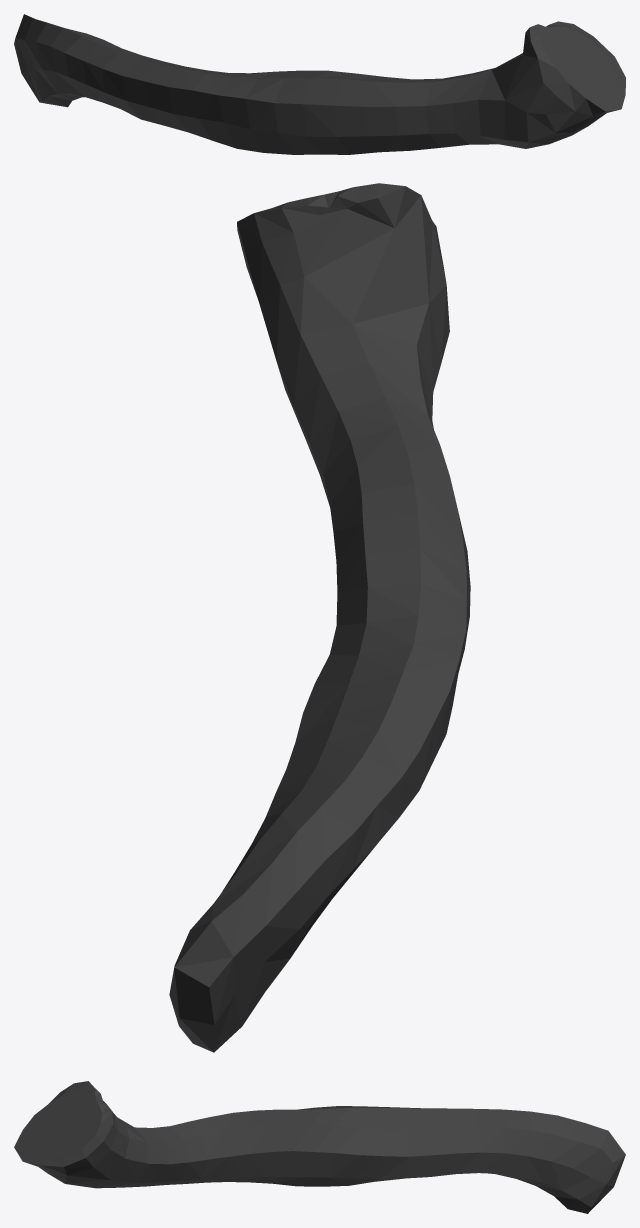
The model's file is R_sided_CORONARY_SINUS.glb.
3 views of the same model, one above another, from view 1: azimuth 30°, elevation 25°; view 2: azimuth 150°, elevation 25°; view 3: azimuth 270°, elevation 25° (orthographic). The views are drawn at different scales.
Visible parts, largest first — view 1: R_sided_CORONARY_SINUS; view 2: R_sided_CORONARY_SINUS; view 3: R_sided_CORONARY_SINUS.
Part boxes in pixels (x1,y1,x2,y2): R_sided_CORONARY_SINUS: [14, 14, 625, 154]; R_sided_CORONARY_SINUS: [169, 183, 470, 1052]; R_sided_CORONARY_SINUS: [14, 1081, 625, 1213].
Bounding box in the file's own units: 1.8 × 1.35 × 3.57.
1 material, 1 textured.
